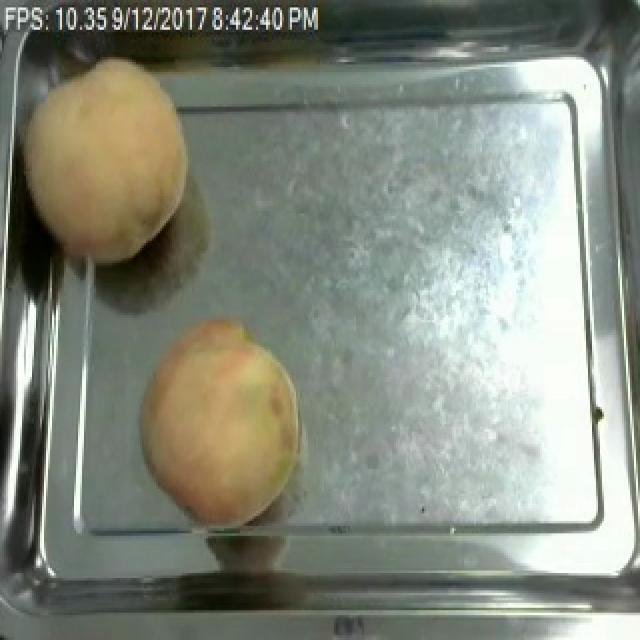Fruit: (12, 47, 200, 273), (134, 312, 310, 531)
